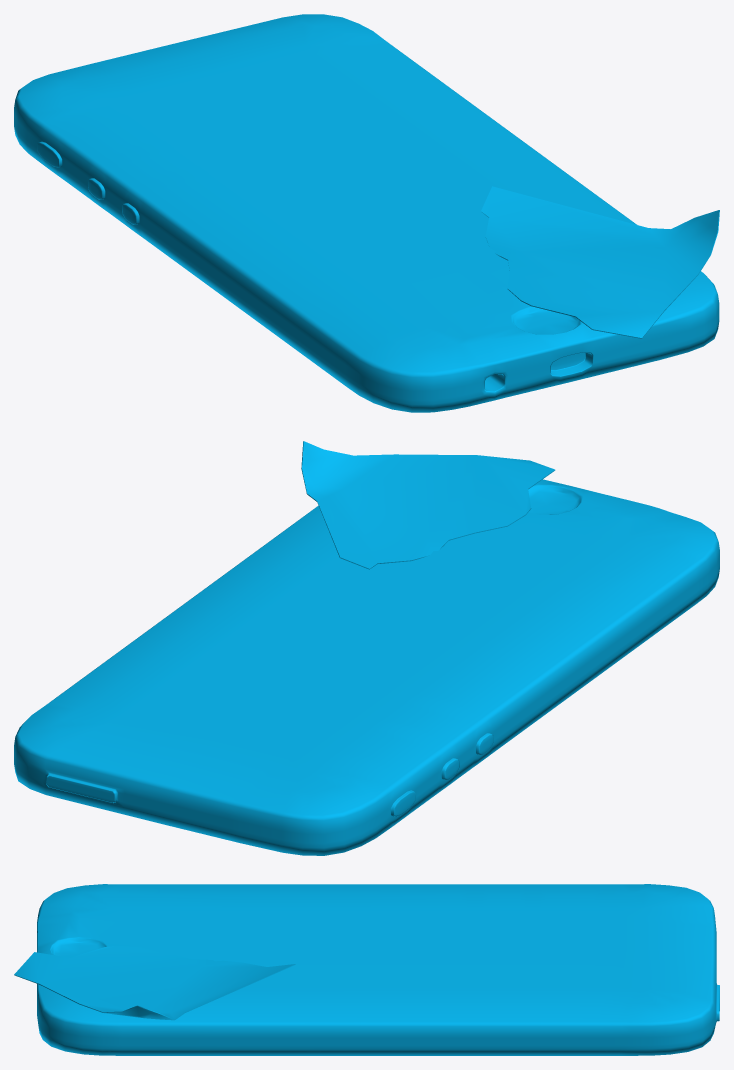
Rendered from PAPIER_et_PHONE_MESH.FBX.
The picture shows the model from 3 angles, top to bottom: view 1: azimuth 30°, elevation 25°; view 2: azimuth 150°, elevation 25°; view 3: azimuth 270°, elevation 25°; orthographic projection. The views are drawn at different scales.
Parts seen in each view (by area): view 1: PhoneMesh; view 2: PhoneMesh; view 3: PhoneMesh.
Boxes of the visible parts, x1,y1,x2,y2 form: PhoneMesh: [14, 14, 719, 412]; PhoneMesh: [14, 441, 719, 855]; PhoneMesh: [14, 884, 719, 1055].
Size of the model in its own units: 14.43 by 3.08 by 27.45.
